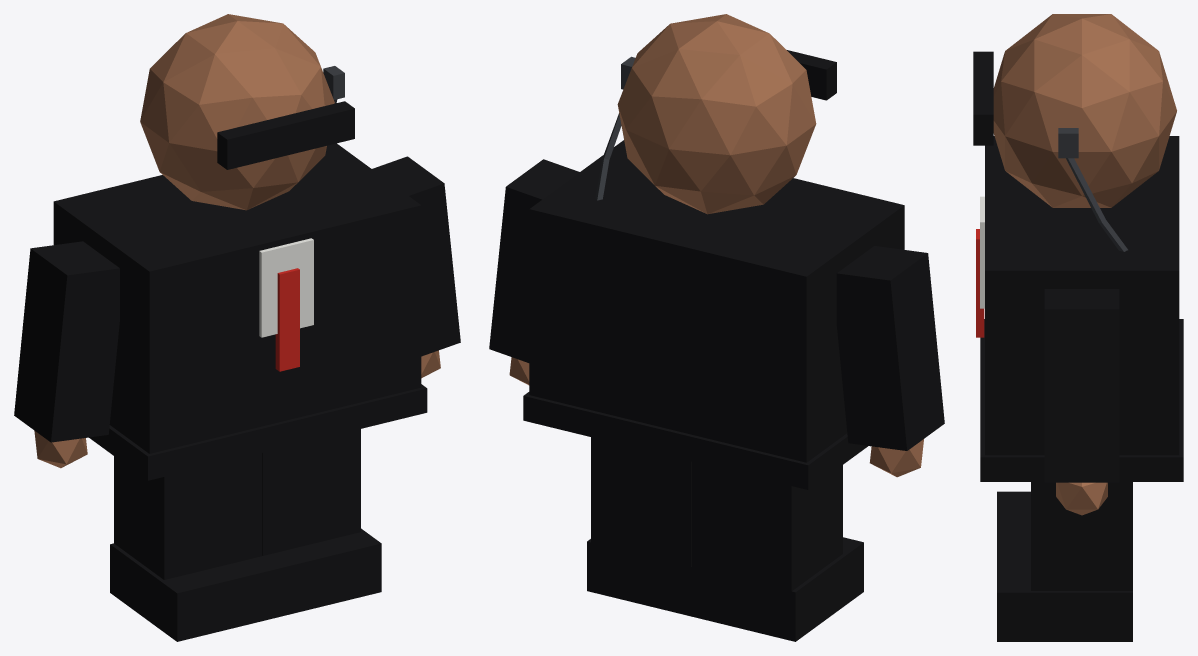
Rendered from Org Guardaespaldas.fbx.
The picture shows the model from 3 angles, left to right: view 1: azimuth 30°, elevation 25°; view 2: azimuth 150°, elevation 25°; view 3: azimuth 270°, elevation 25°; orthographic projection.
Parts seen in each view (by area): view 1: Org Guardaespaldas; view 2: Org Guardaespaldas; view 3: Org Guardaespaldas.
Part boxes in pixels (bbox=[...]): Org Guardaespaldas: bbox=[14, 14, 460, 641]; Org Guardaespaldas: bbox=[489, 14, 944, 641]; Org Guardaespaldas: bbox=[973, 14, 1183, 641].
Size of the model in its own units: 0.7057 by 0.93 by 0.3095.
